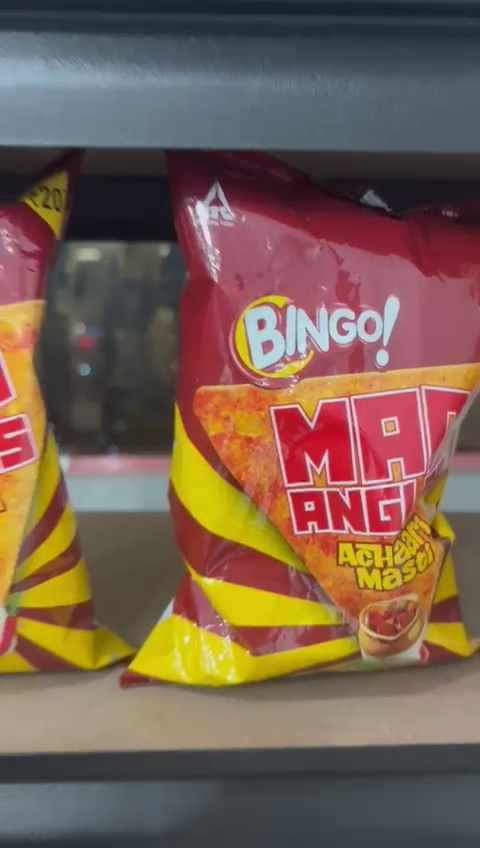Bingo Mad Angles: (172, 154, 480, 685)
